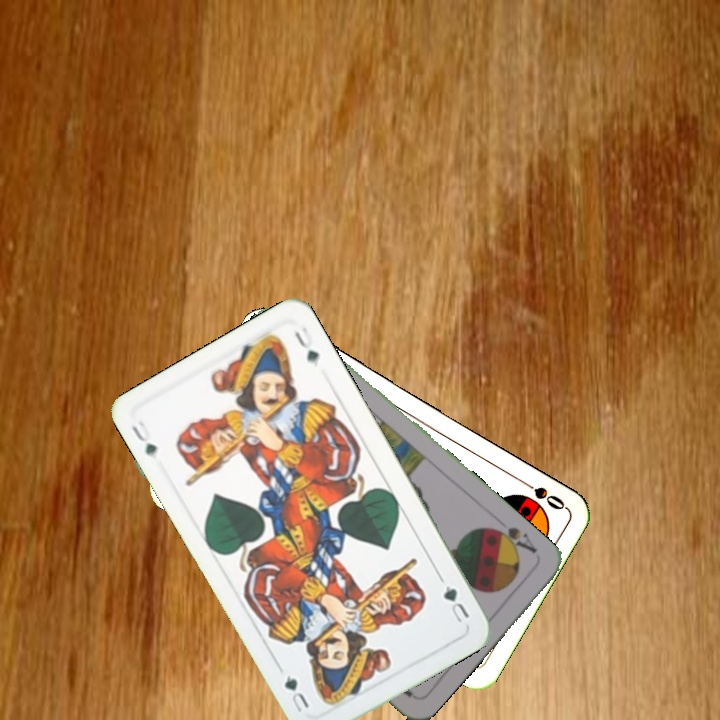GU: (127, 416, 160, 462), (439, 581, 472, 626)
SA: (486, 523, 540, 559)
SO: (514, 474, 568, 513)
